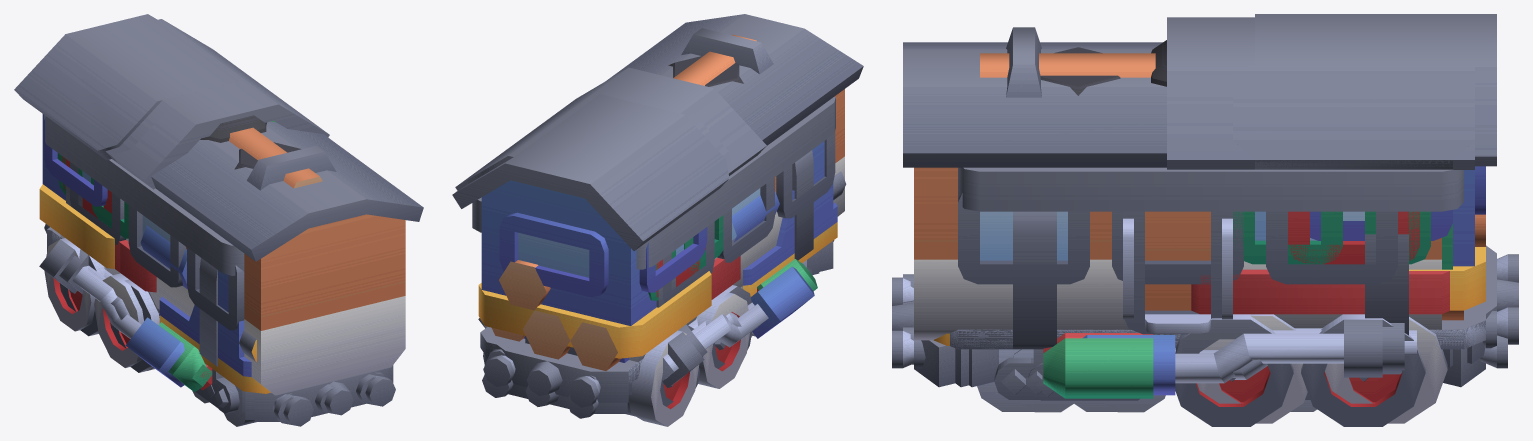
File: railway.glb
The picture shows the model from 3 angles, left to right: view 1: azimuth 30°, elevation 25°; view 2: azimuth 150°, elevation 25°; view 3: azimuth 270°, elevation 25°; orthographic projection. The views are drawn at different scales.
Visible parts, largest first — view 1: train-locomotive-passenger-a, train-locomotive-c, train-locomotive-passenger-b, train-locomotive-a, train-carriage-coal, wheel (×4), cargo (×2), train-locomotive-b, train-carriage-lumber, wheels-front; view 2: train-locomotive-c, train-locomotive-passenger-b, train-locomotive-passenger-a, train-locomotive-a, train-carriage-coal, cargo (×3), wheel (×3), train-carriage-lumber, train-carriage-wood, train-locomotive-b; view 3: train-locomotive-passenger-b, train-locomotive-a, train-locomotive-c, train-locomotive-b, train-carriage-coal, train-locomotive-passenger-a, wheel (×4), train-carriage-lumber, cargo (×3), wheels-front (×3).
Part boxes in pixels (x1,y1,x2,y2): train-locomotive-passenger-a: [121, 126, 423, 426]; train-locomotive-c: [14, 14, 377, 424]; train-locomotive-passenger-b: [60, 121, 423, 426]; train-locomotive-a: [57, 19, 329, 409]; train-carriage-coal: [44, 115, 384, 394]; wheel (×4): [44, 238, 159, 372]; cargo (×2): [200, 115, 322, 188]; train-locomotive-b: [61, 20, 295, 412]; train-carriage-lumber: [52, 185, 383, 394]; wheels-front: [192, 369, 254, 426]; train-locomotive-c: [452, 94, 846, 407]; train-locomotive-passenger-b: [629, 14, 844, 361]; train-locomotive-passenger-a: [607, 14, 863, 361]; train-locomotive-a: [455, 67, 819, 394]; train-carriage-coal: [472, 96, 835, 418]; cargo (×3): [492, 34, 756, 370]; wheel (×3): [628, 285, 751, 426]; train-carriage-lumber: [480, 150, 813, 418]; train-carriage-wood: [508, 97, 835, 406]; train-locomotive-b: [464, 87, 818, 394]; train-locomotive-passenger-b: [892, 27, 1441, 387]; train-locomotive-a: [925, 17, 1496, 398]; train-locomotive-c: [903, 14, 1518, 395]; train-locomotive-b: [973, 70, 1474, 384]; train-carriage-coal: [914, 167, 1507, 376]; train-locomotive-passenger-a: [892, 27, 1243, 384]; wheel (×4): [1175, 314, 1447, 426]; train-carriage-lumber: [914, 211, 1507, 387]; cargo (×3): [980, 40, 1485, 320]; wheels-front (×3): [977, 349, 1165, 412].
Size of the model in its own units: 1.47 by 1.66 by 2.85.
Materials: 1 (1 with a texture image).
